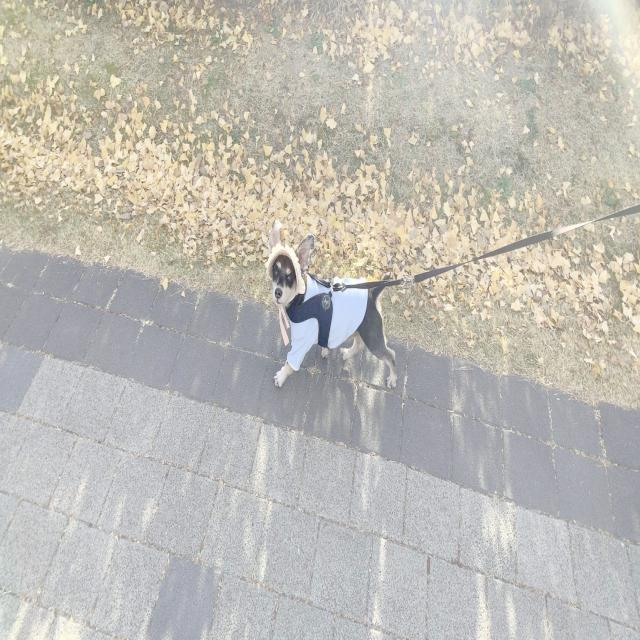Dog: (266, 218, 399, 394)
